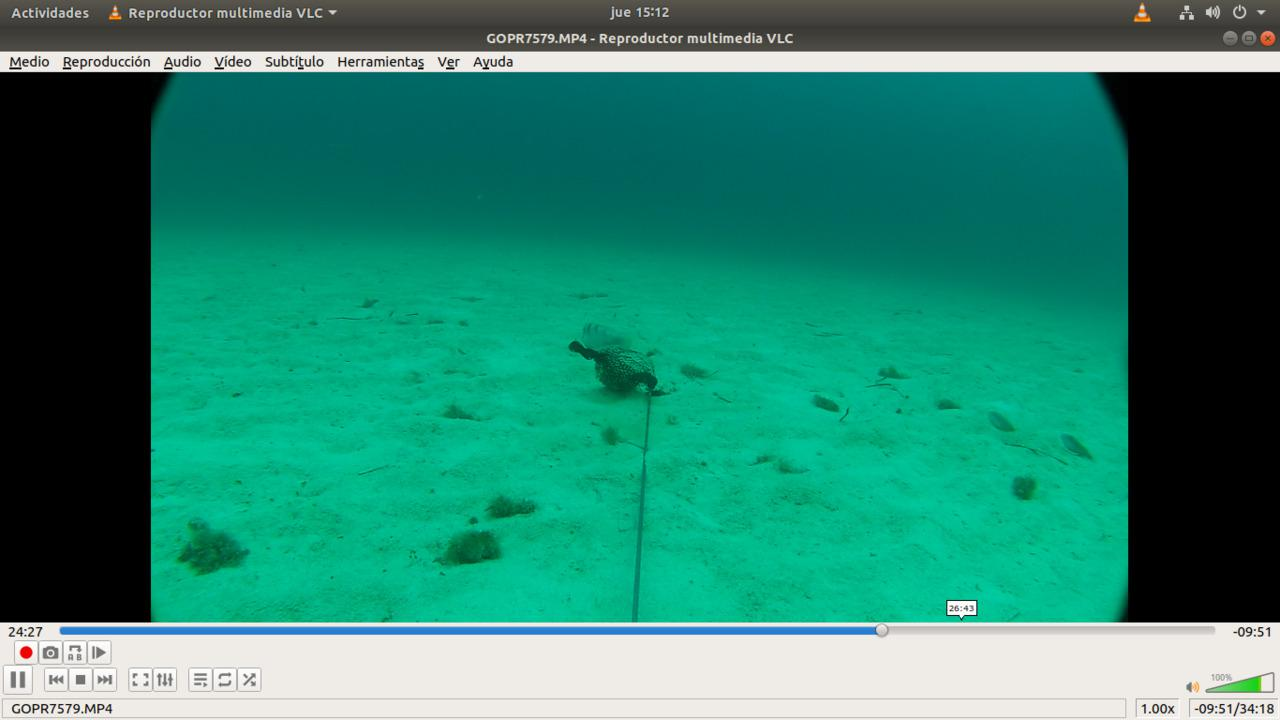raor: (575, 313, 640, 359)
